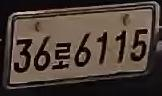1: (111, 27, 129, 65), (94, 27, 110, 66)
3: (14, 38, 34, 75)
5: (130, 26, 148, 62)
6: (74, 31, 93, 70), (34, 33, 52, 74)
로: (53, 40, 73, 71)
